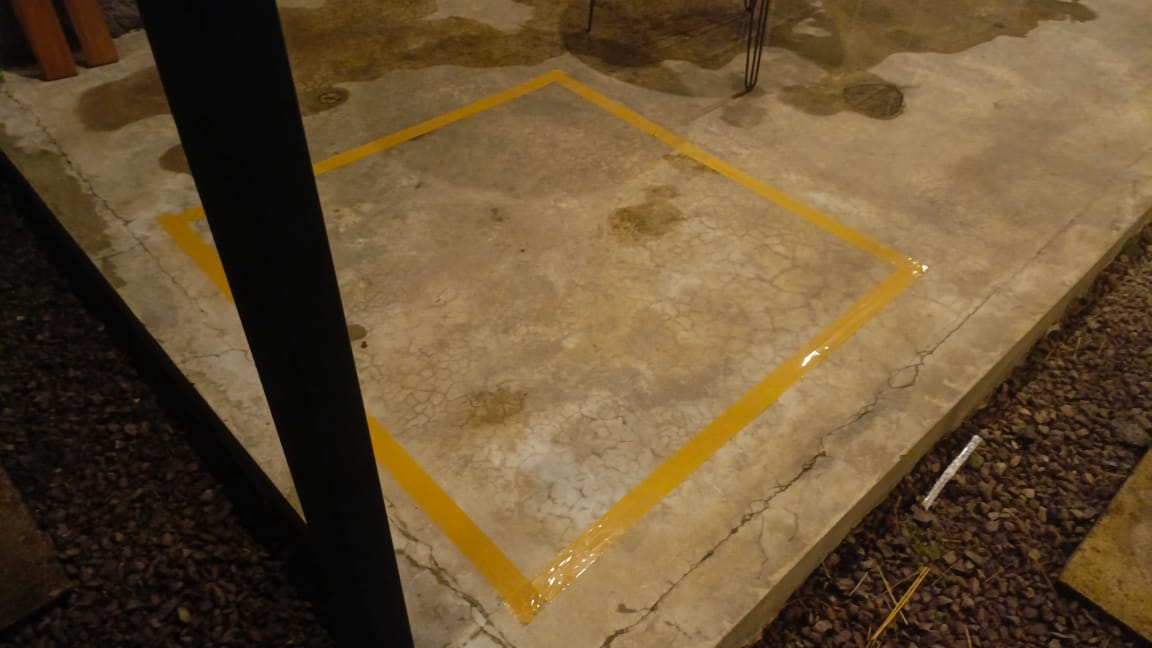floor marking: (313, 70, 926, 564), (381, 455, 535, 619), (158, 206, 231, 299), (538, 554, 577, 603)
